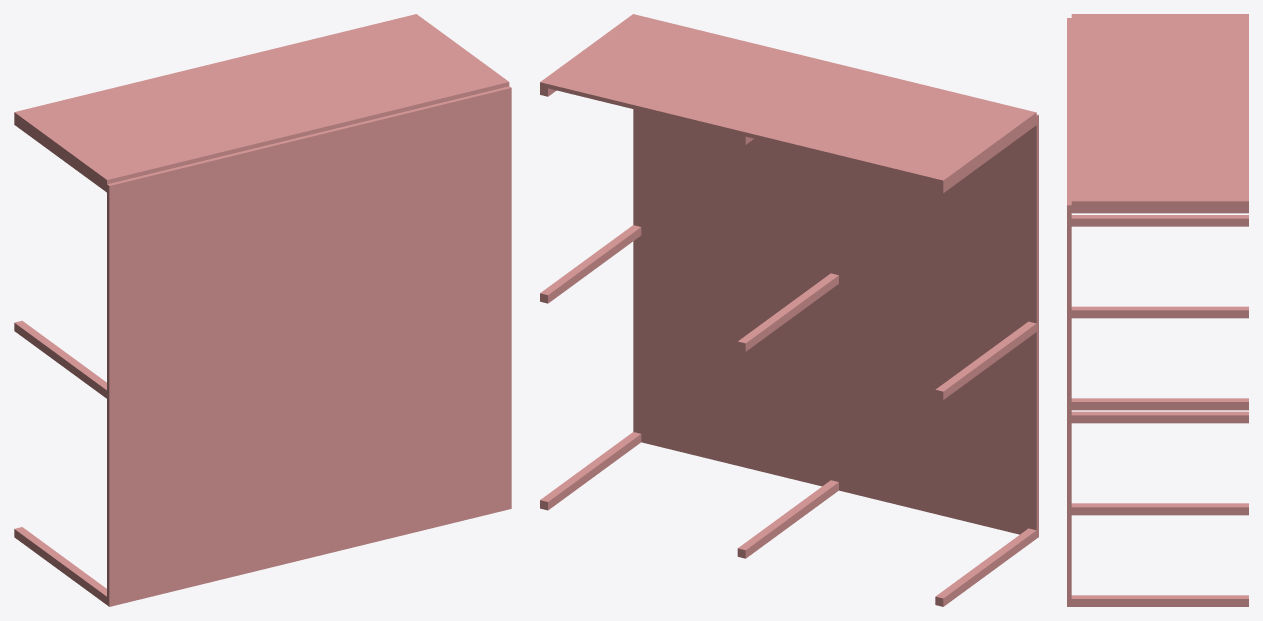
3 renders of one model, left to right at view 1: azimuth 30°, elevation 25°; view 2: azimuth 150°, elevation 25°; view 3: azimuth 270°, elevation 25°, orthographic. The views are drawn at different scales.
Parts seen in each view (by area): view 1: Test_Dwg_mini.stl; view 2: Test_Dwg_mini.stl; view 3: Test_Dwg_mini.stl.
Boxes of the visible parts, x1=… form: Test_Dwg_mini.stl: x1=14, y1=14, x2=511, y2=606; Test_Dwg_mini.stl: x1=540, y1=14, x2=1038, y2=606; Test_Dwg_mini.stl: x1=1067, y1=14, x2=1248, y2=606.
Bounding box in the file's own units: 1000 × 1010 × 410.
